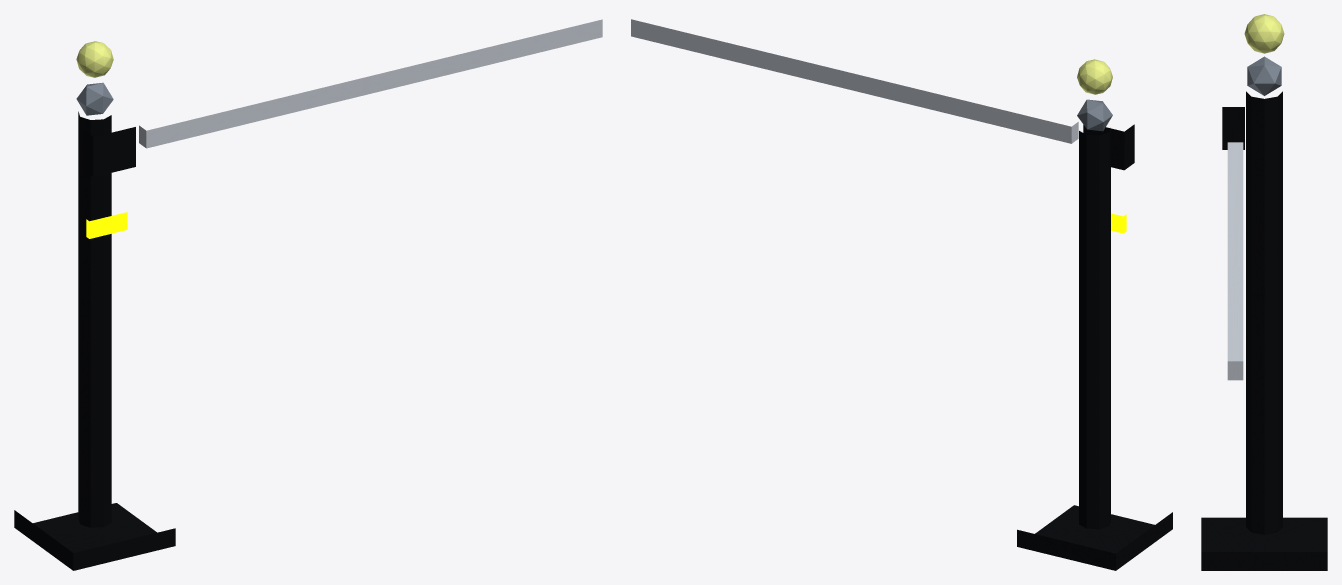
Rendered from v1_court_stanchion.glb.
3 views of the same model, side by side, from view 1: azimuth 30°, elevation 25°; view 2: azimuth 150°, elevation 25°; view 3: azimuth 270°, elevation 25° (orthographic). The views are drawn at different scales.
Visible parts, largest first — view 1: Post, Belt, Ball_Cap, Post_Cap, Court_Ring; view 2: Post, Belt, Ball_Cap, Post_Cap; view 3: Post, Belt, Ball_Cap, Post_Cap.
Boxes of the visible parts, left/top/right/bottom form: Post: left=14, top=111, right=175, bottom=570; Belt: left=139, top=19, right=602, bottom=148; Ball_Cap: left=76, top=41, right=113, bottom=77; Post_Cap: left=76, top=82, right=113, bottom=115; Court_Ring: left=86, top=212, right=127, bottom=238; Post: left=1017, top=124, right=1172, bottom=570; Belt: left=631, top=19, right=1078, bottom=143; Ball_Cap: left=1077, top=59, right=1112, bottom=94; Post_Cap: left=1077, top=99, right=1112, bottom=131; Post: left=1201, top=91, right=1327, bottom=570; Belt: left=1227, top=142, right=1243, bottom=380; Ball_Cap: left=1244, top=14, right=1284, bottom=53; Post_Cap: left=1247, top=56, right=1281, bottom=95.
Size of what is drawn, in the model's own units: 1.27 by 1.11 by 0.24.
5 materials, 3 textured.
